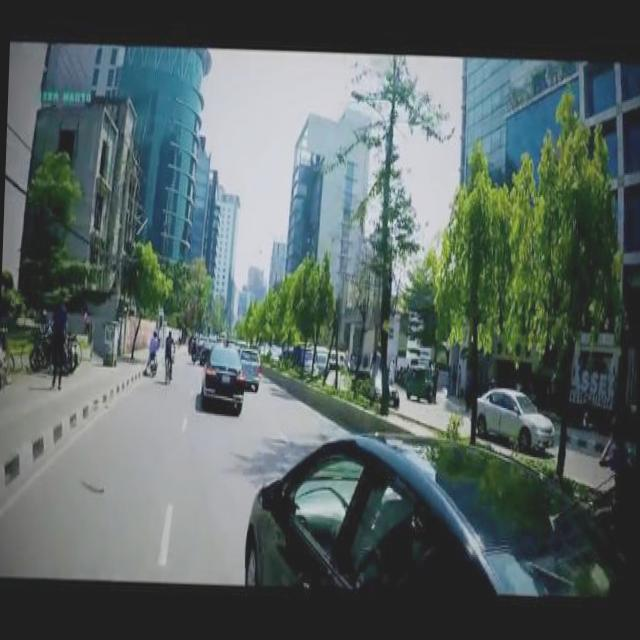car: (242, 424, 620, 594), (474, 384, 554, 451), (200, 336, 243, 406), (348, 361, 398, 404), (234, 342, 260, 386)
motorcycle: (403, 359, 432, 396), (148, 344, 157, 370)
